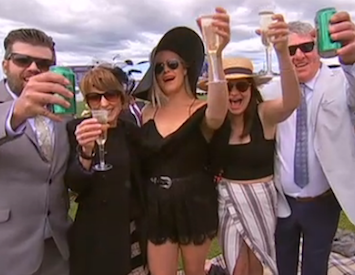Person: (142, 6, 230, 275), (287, 9, 355, 275), (1, 29, 73, 275), (71, 62, 141, 275), (225, 55, 281, 275)
